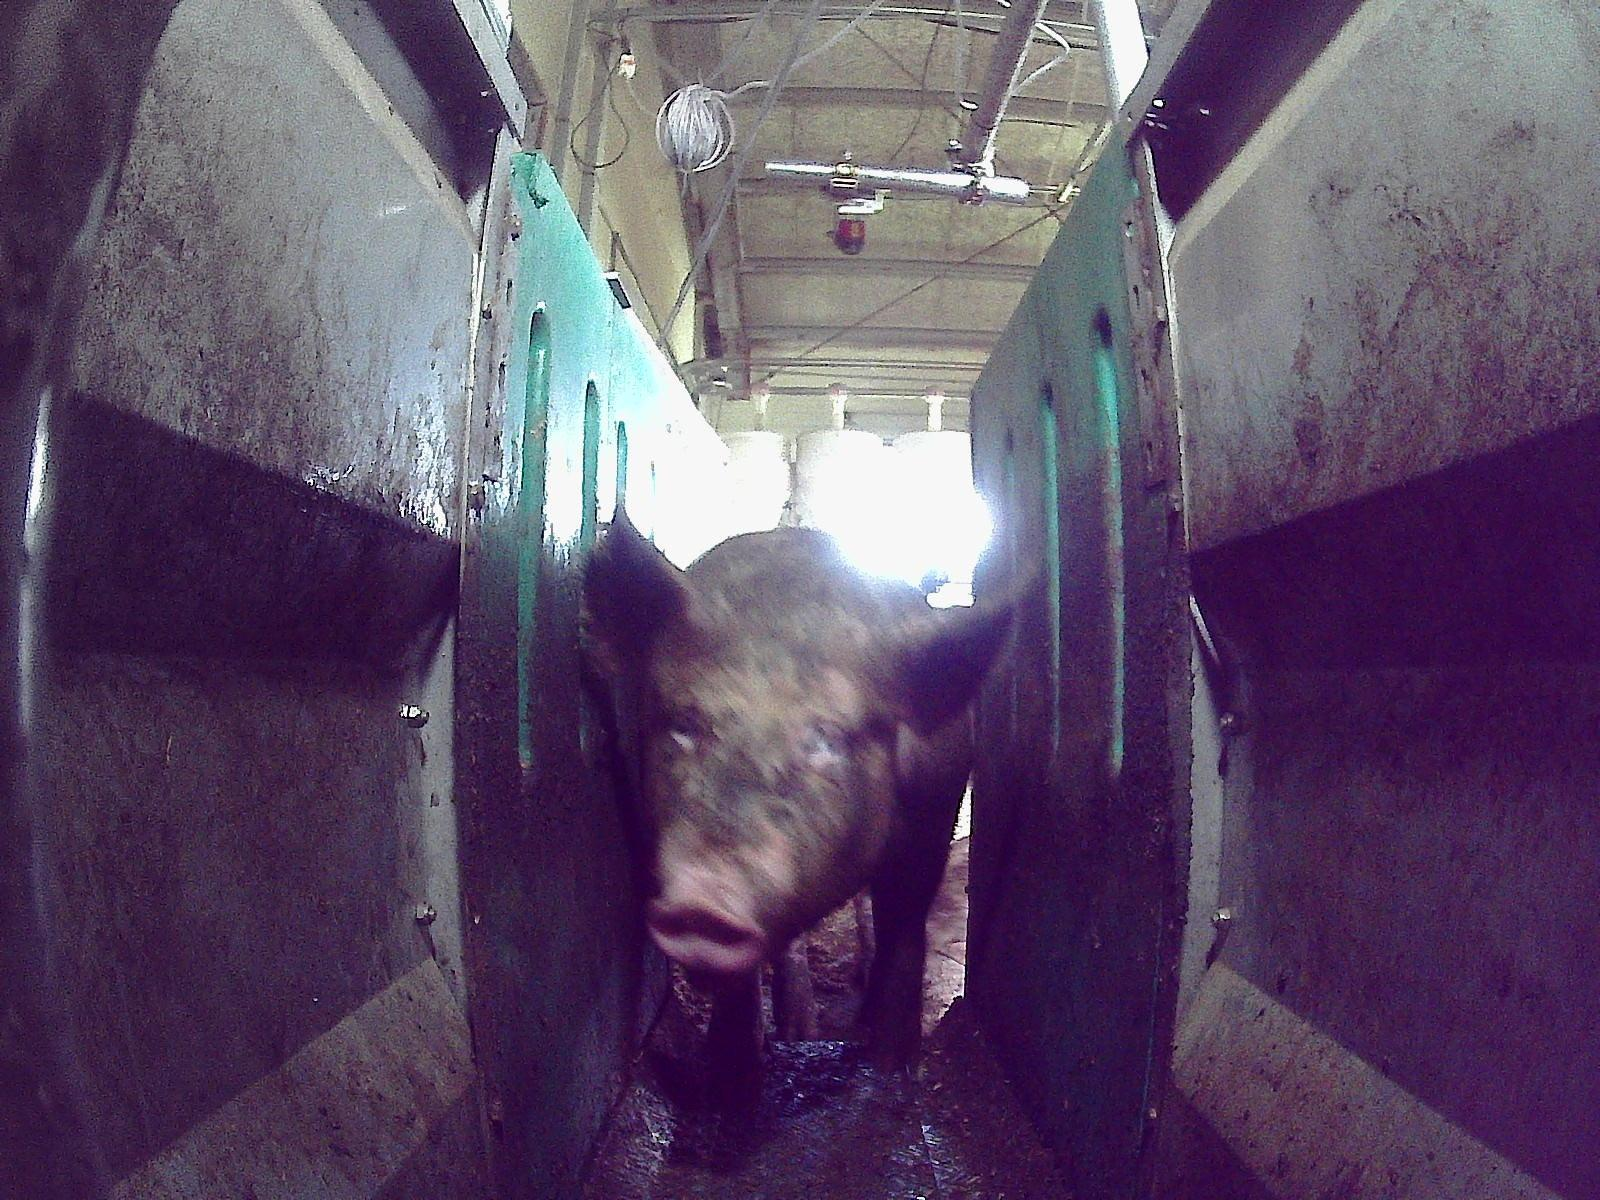Face: (642, 624, 889, 969)
